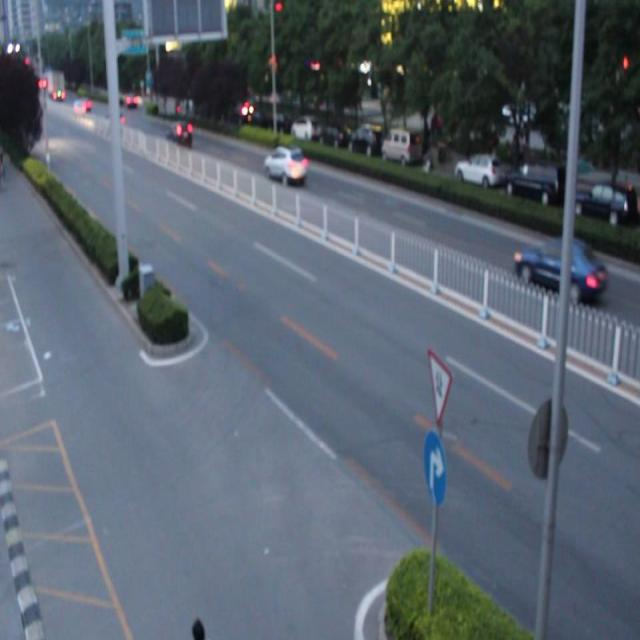car: (513, 238, 604, 302), (263, 143, 308, 184)
